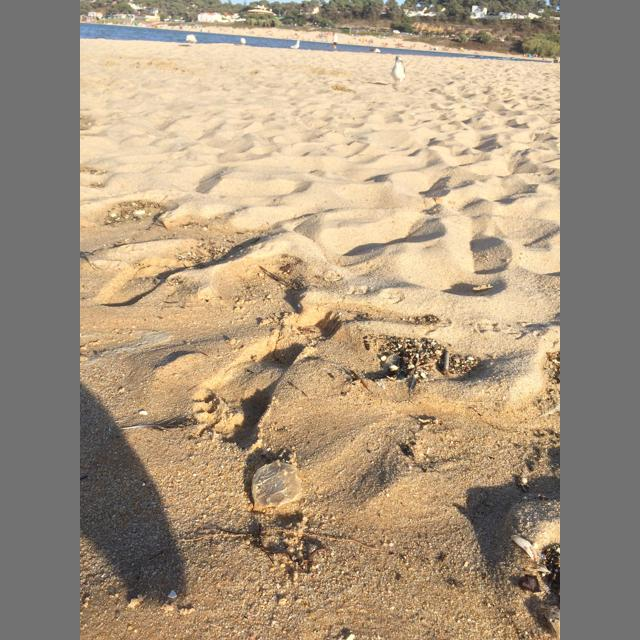litter: (251, 461, 301, 512), (380, 354, 402, 374)
